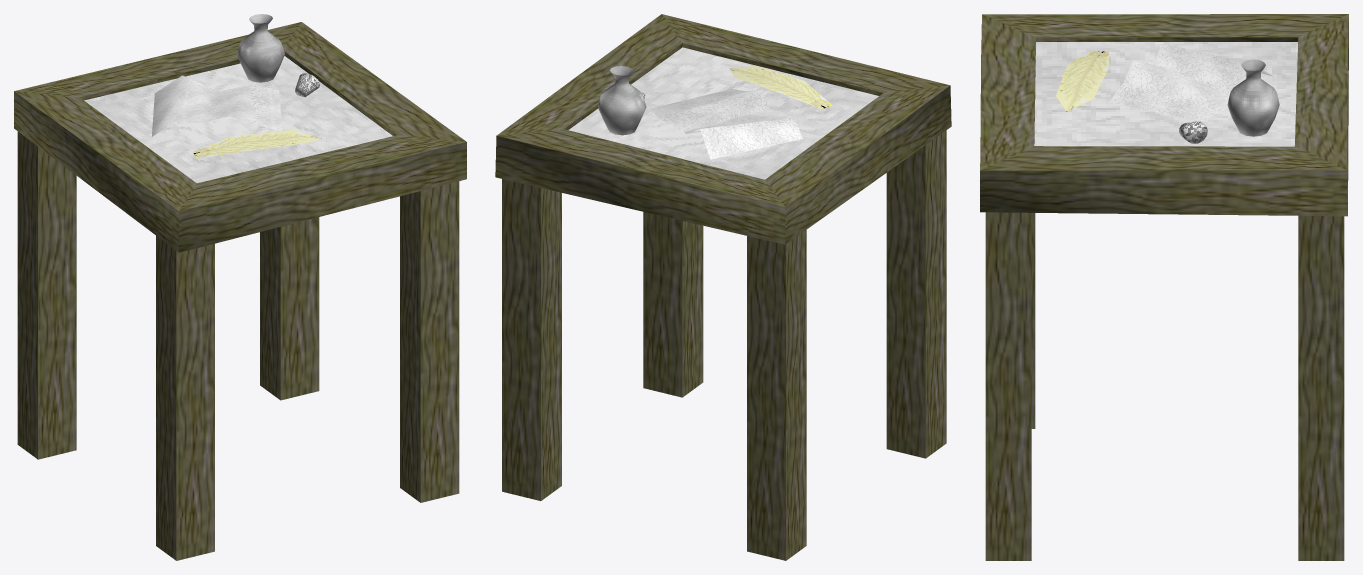
The model's file is desk.obj.
3 renders of one model, left to right at view 1: azimuth 30°, elevation 25°; view 2: azimuth 150°, elevation 25°; view 3: azimuth 270°, elevation 25°, orthographic. The views are drawn at different scales.
Visible parts, largest first — view 1: Duplicate08, Duplicate01, Duplicate03, Box02, Box01, Duplicate02, Triangles, Cylinder01; view 2: Duplicate08, Duplicate01, Box02, Duplicate02, Box01, Duplicate03, Triangles, Cylinder01; view 3: Duplicate08, Duplicate03, Duplicate02, Box01, Triangles, Duplicate01, Cylinder01, Cylinder02.
Boxes of the visible parts, bbox=[...] form: Duplicate08: bbox=[14, 22, 466, 252]; Duplicate01: bbox=[156, 14, 281, 560]; Duplicate03: bbox=[400, 181, 459, 502]; Box02: bbox=[17, 131, 76, 459]; Box01: bbox=[84, 56, 392, 183]; Duplicate02: bbox=[260, 217, 319, 400]; Triangles: bbox=[151, 75, 321, 158]; Cylinder01: bbox=[237, 43, 284, 82]; Duplicate08: bbox=[495, 14, 951, 244]; Duplicate01: bbox=[601, 66, 946, 458]; Box02: bbox=[747, 230, 806, 560]; Duplicate02: bbox=[502, 179, 561, 500]; Box01: bbox=[568, 47, 878, 179]; Duplicate03: bbox=[643, 212, 703, 397]; Triangles: bbox=[651, 65, 832, 159]; Cylinder01: bbox=[597, 95, 646, 135]; Duplicate08: bbox=[980, 14, 1348, 216]; Duplicate03: bbox=[985, 212, 1031, 560]; Duplicate02: bbox=[1298, 216, 1344, 560]; Box01: bbox=[1034, 42, 1297, 146]; Triangles: bbox=[1056, 43, 1273, 121]; Duplicate01: bbox=[1031, 59, 1276, 428]; Cylinder01: bbox=[1227, 93, 1279, 136]; Cylinder02: bbox=[1179, 121, 1207, 143].
Size of the model in its own units: 25.2 by 33.99 by 25.08.
